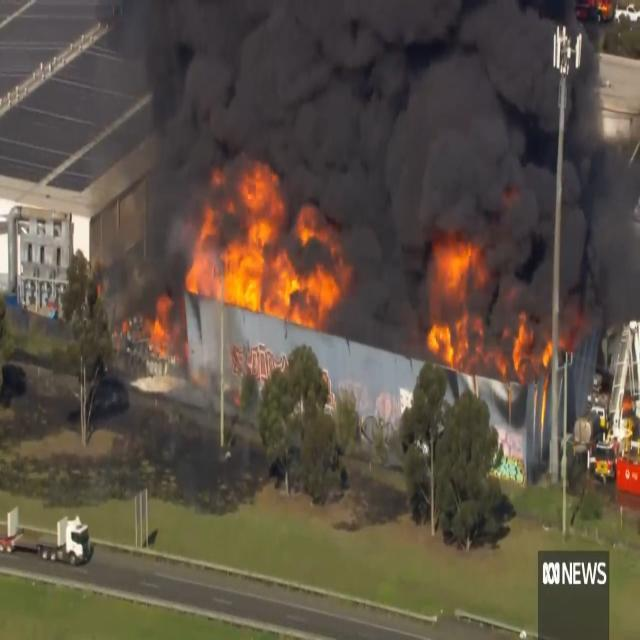fire: (184, 158, 352, 321), (424, 242, 484, 362), (513, 328, 562, 378)
